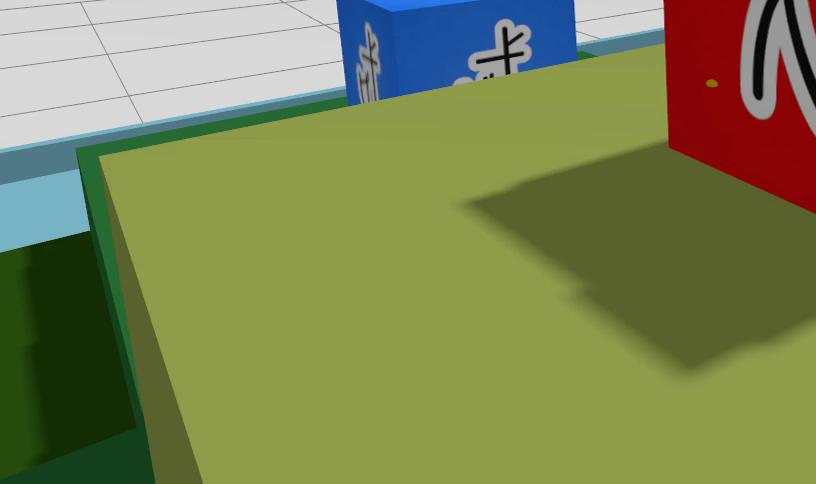KFS_FAKE: (661, 0, 816, 213), (739, 0, 816, 137)
KFS_REAL: (336, 0, 576, 108), (451, 18, 532, 83), (356, 23, 384, 101)
